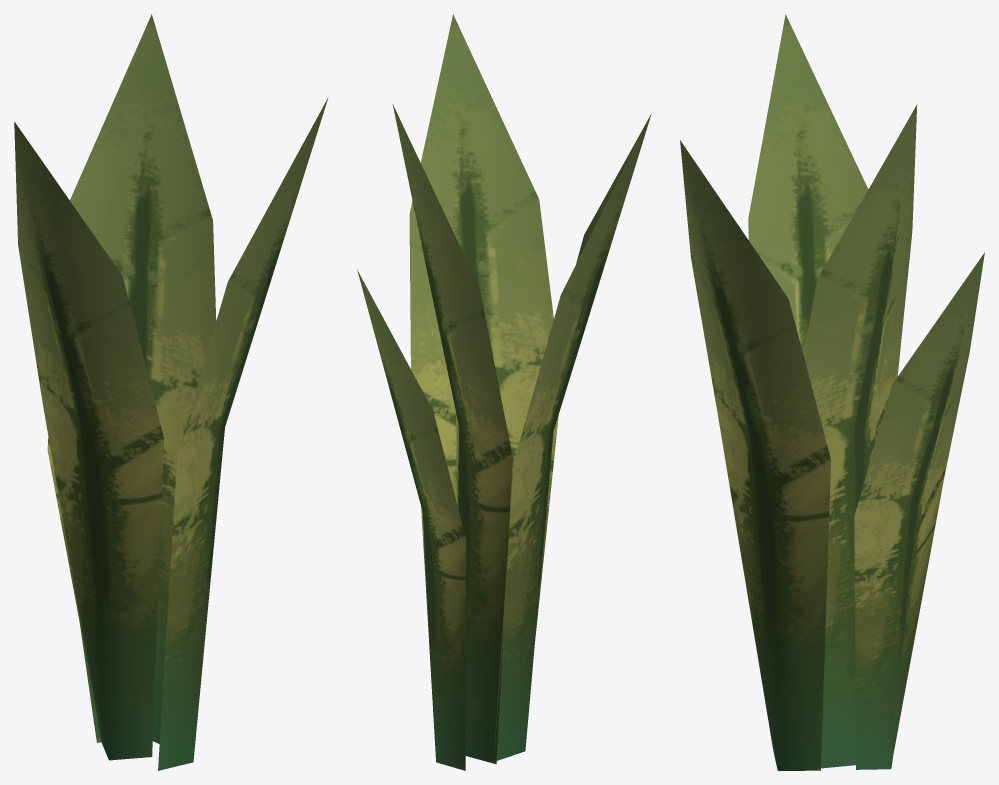
The model's file is V_Pousse02.FBX.
The picture shows the model from 3 angles, left to right: view 1: azimuth 30°, elevation 25°; view 2: azimuth 150°, elevation 25°; view 3: azimuth 270°, elevation 25°; orthographic projection. The views are drawn at different scales.
Visible parts, largest first — view 1: pousse1; view 2: pousse1; view 3: pousse1.
Boxes of the visible parts, bbox=[...] form: pousse1: bbox=[14, 14, 328, 770]; pousse1: bbox=[357, 14, 651, 770]; pousse1: bbox=[680, 14, 984, 770].
Size of the model in its own units: 25.76 by 65.06 by 26.4.
